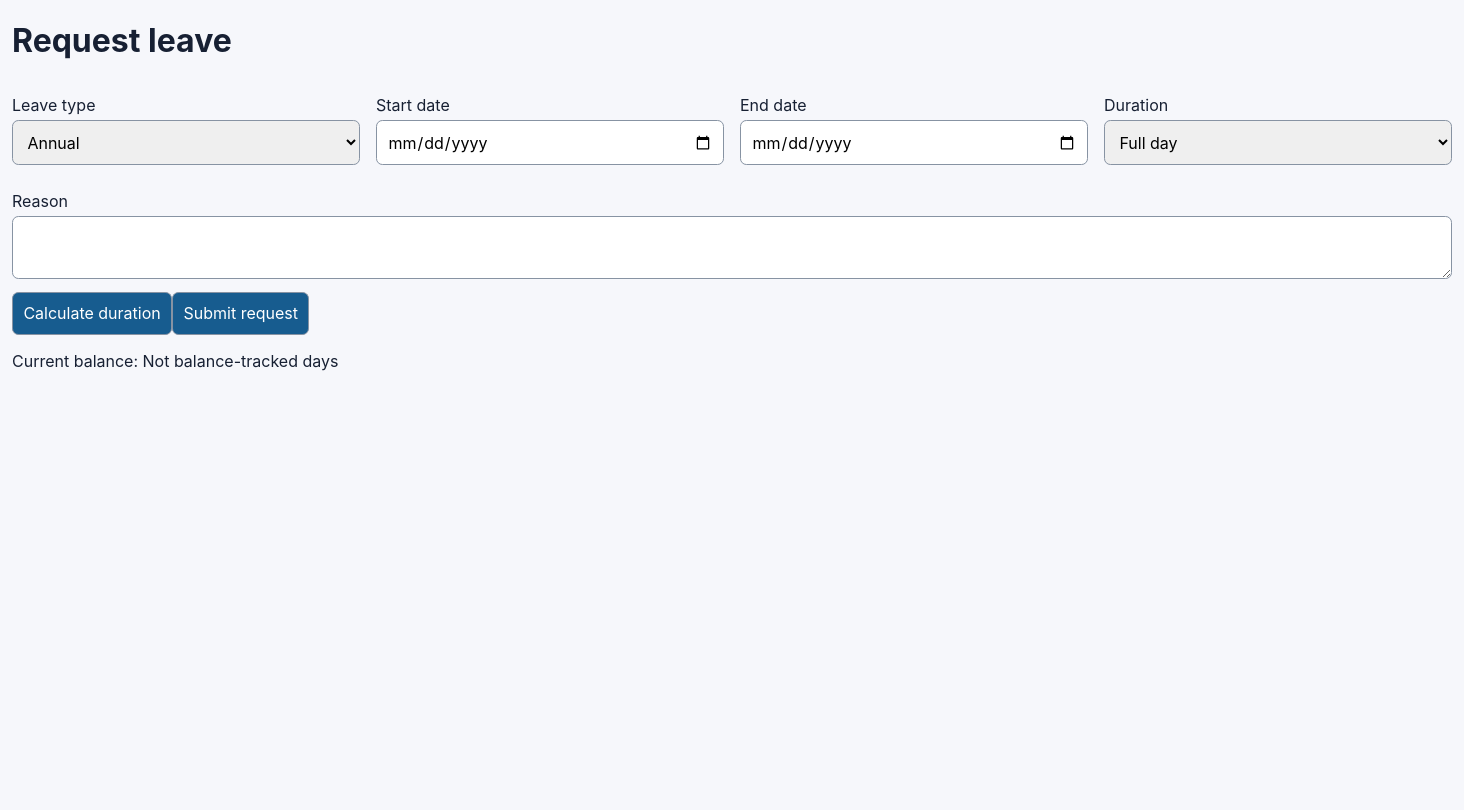
Scenario: shows actionable INSUFFICIENT_BALANCE submission problems
In the date field labelled "Start date": (550, 143) top-left (376, 120), bottom-right (724, 165), type "2026-09-01"
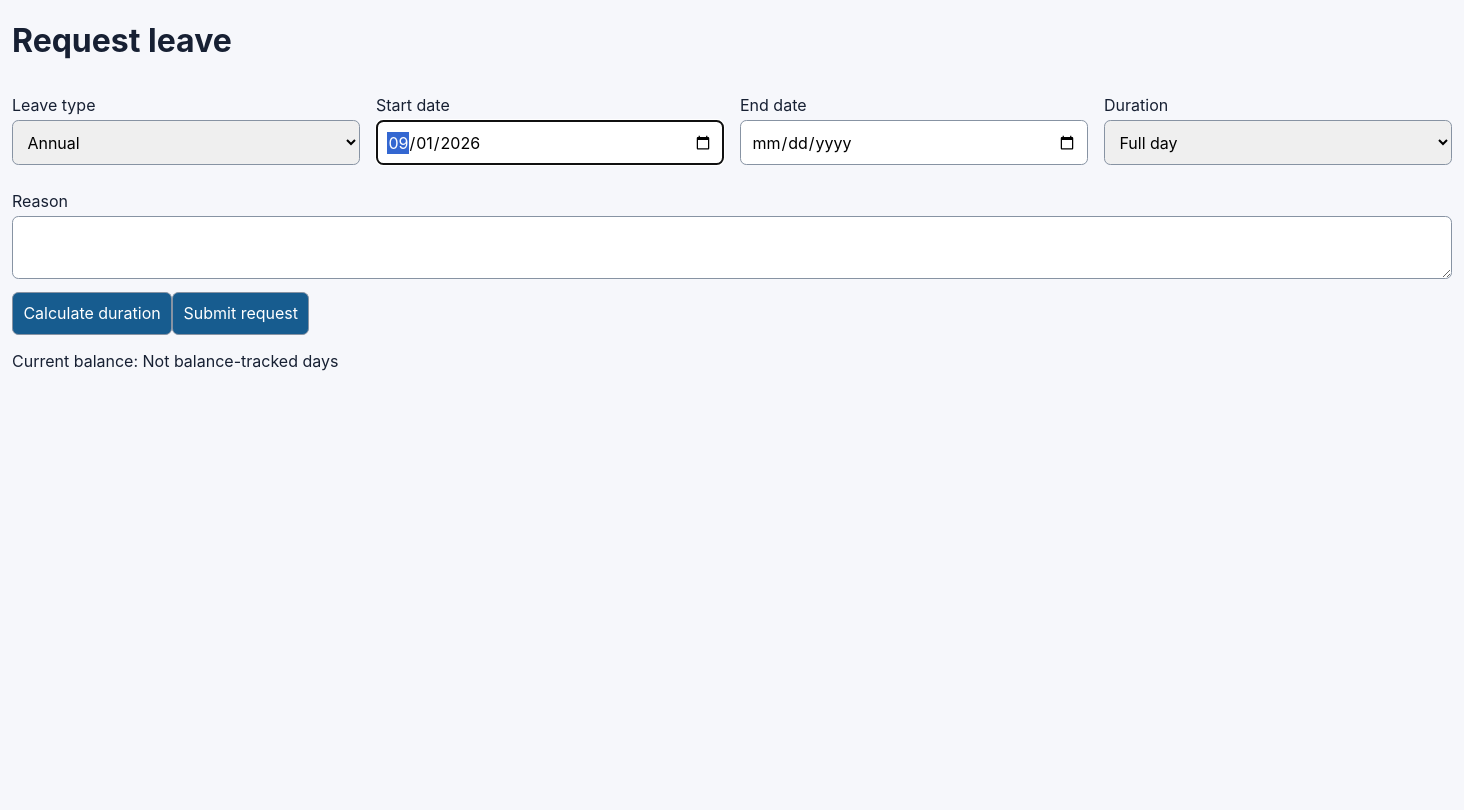
In the date field labelled "End date": (914, 143) top-left (740, 120), bottom-right (1088, 165), type "2026-09-01"
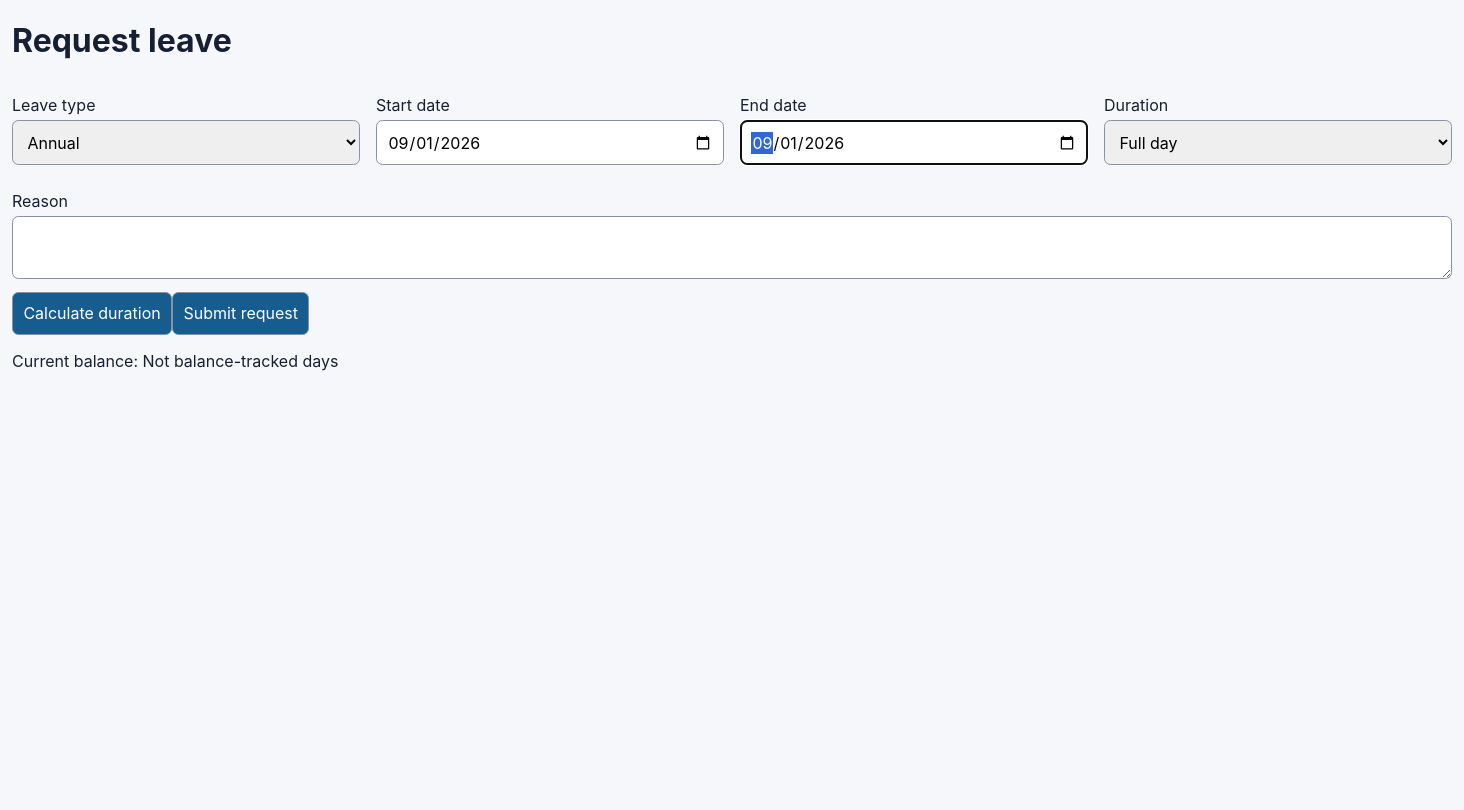
In the text box labelled "Reason": (732, 248) top-left (12, 216), bottom-right (1452, 279), type "Rest"
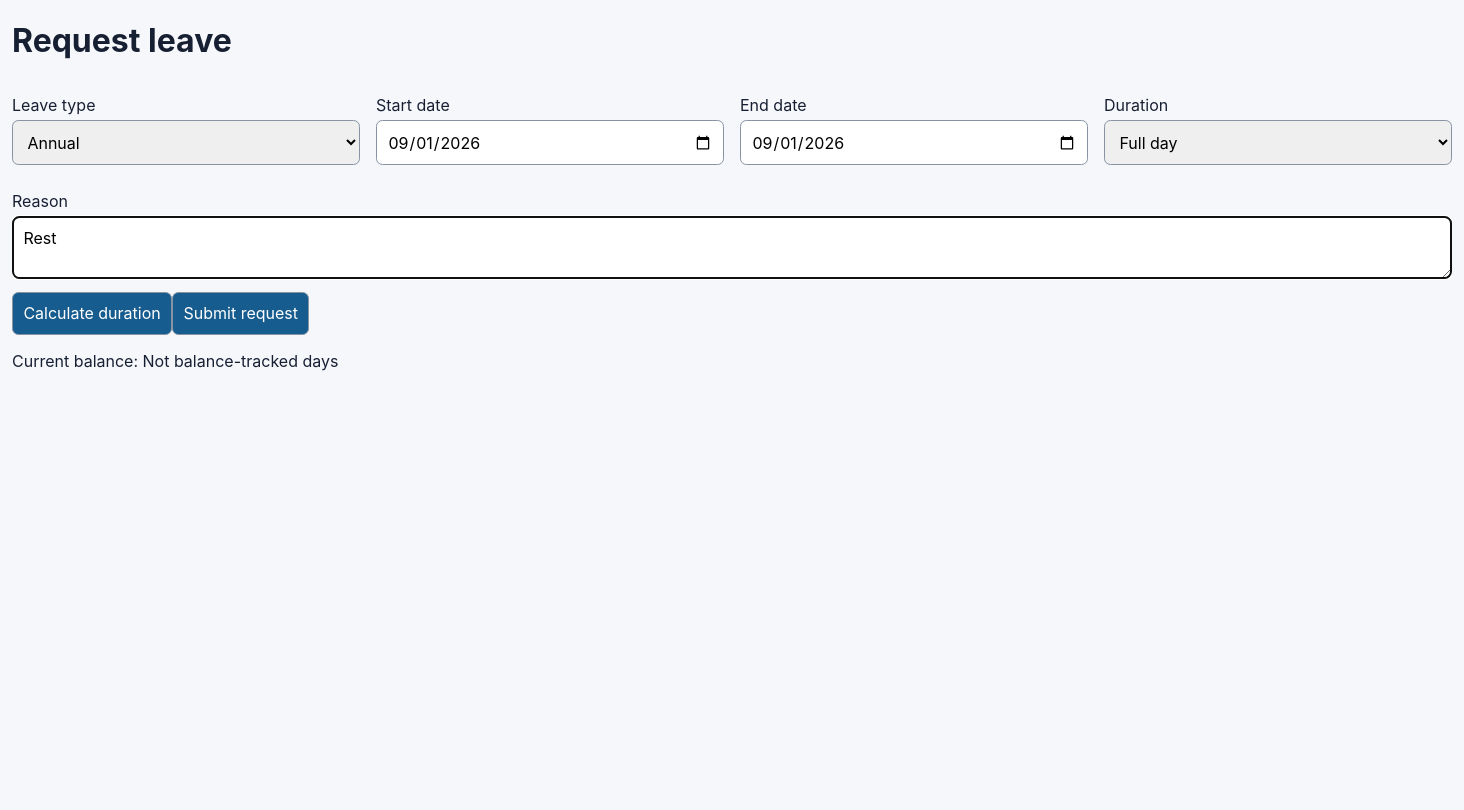
Click the button "Calculate duration": (92, 313) top-left (12, 292), bottom-right (172, 335)
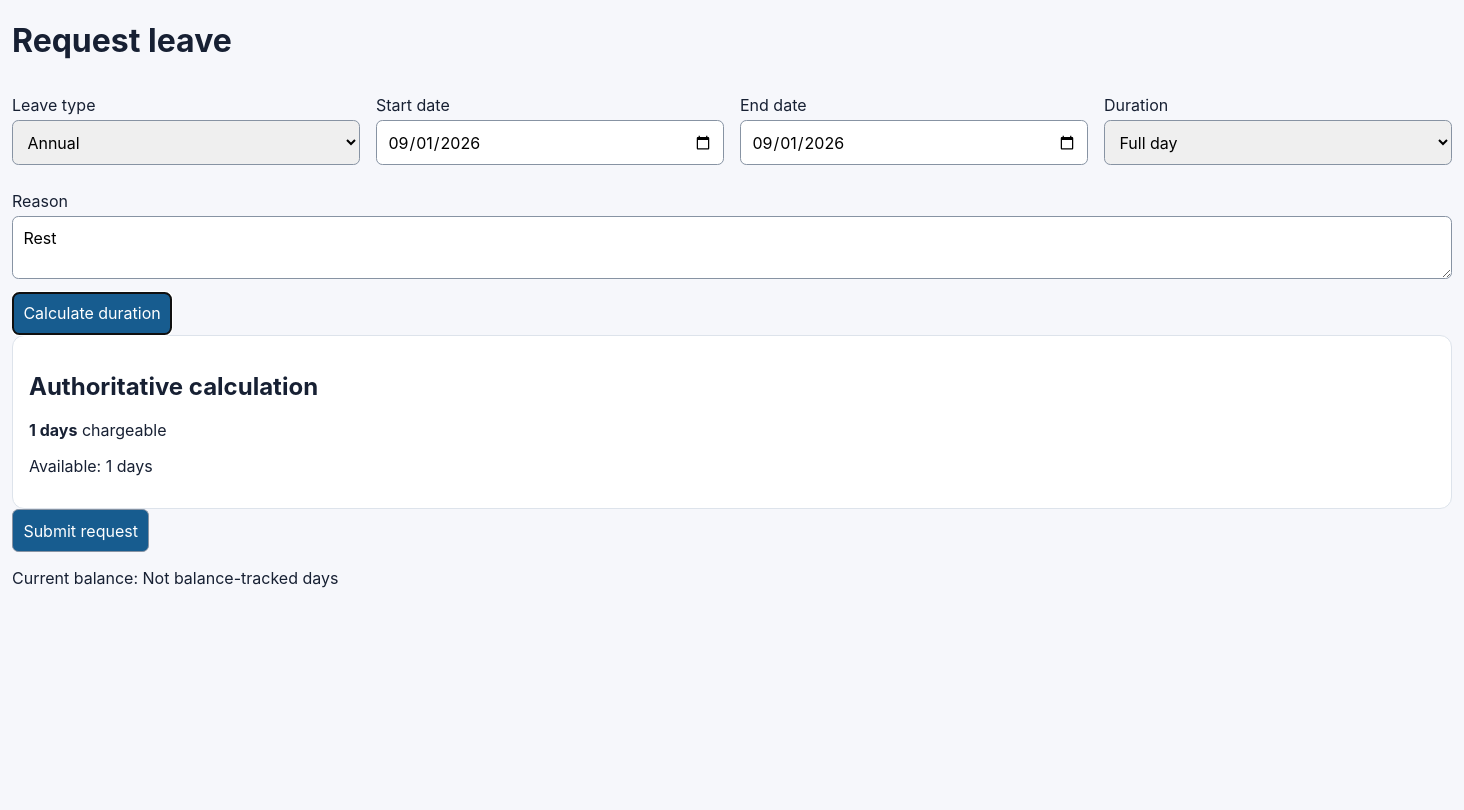
Now the text "1 days" is shown, box top-left (29, 420), bottom-right (77, 440)
Click the button "Submit request": (81, 531) top-left (12, 509), bottom-right (149, 552)
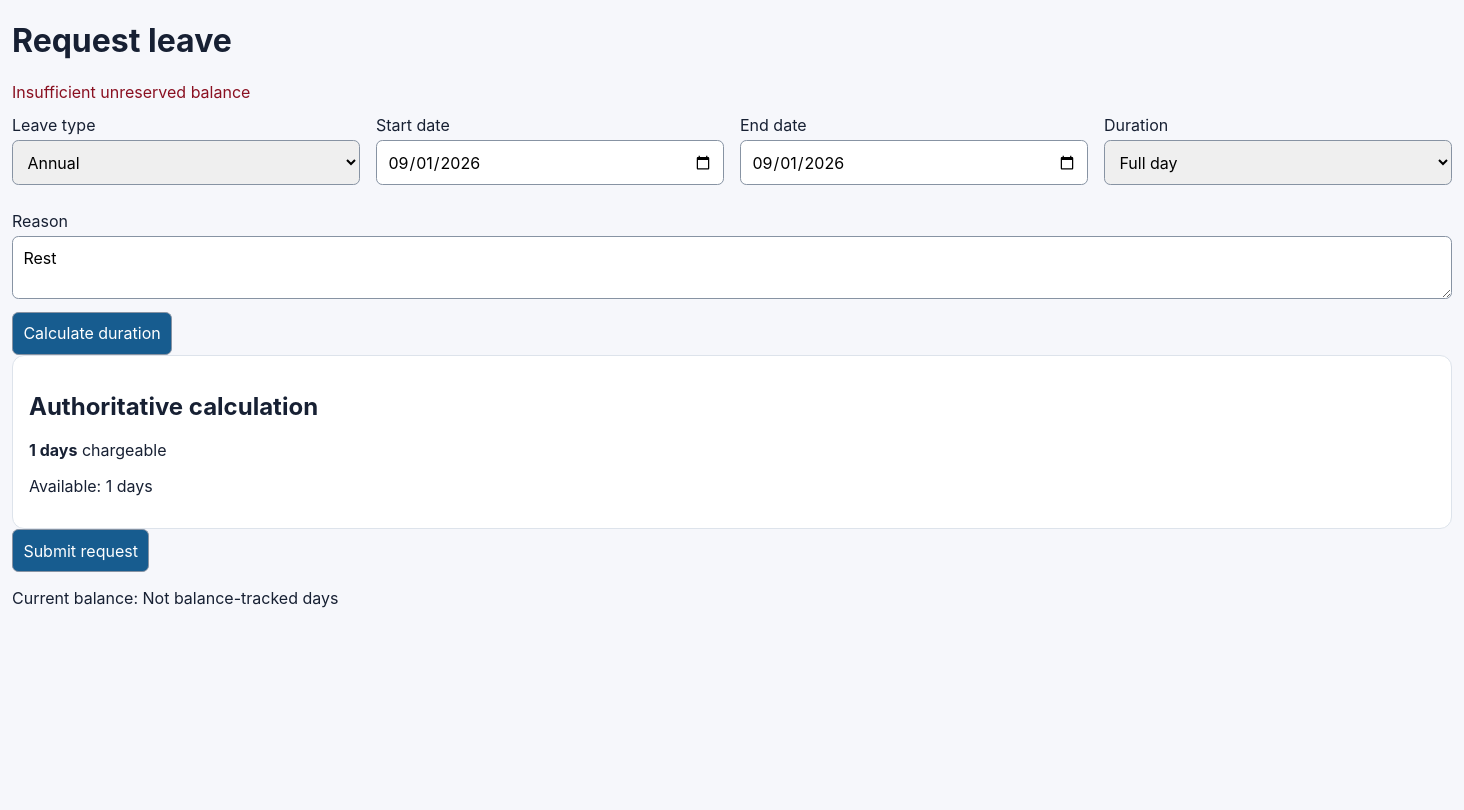
Now the text "Insufficient unreserved balance" is shown, box top-left (12, 82), bottom-right (250, 102)
